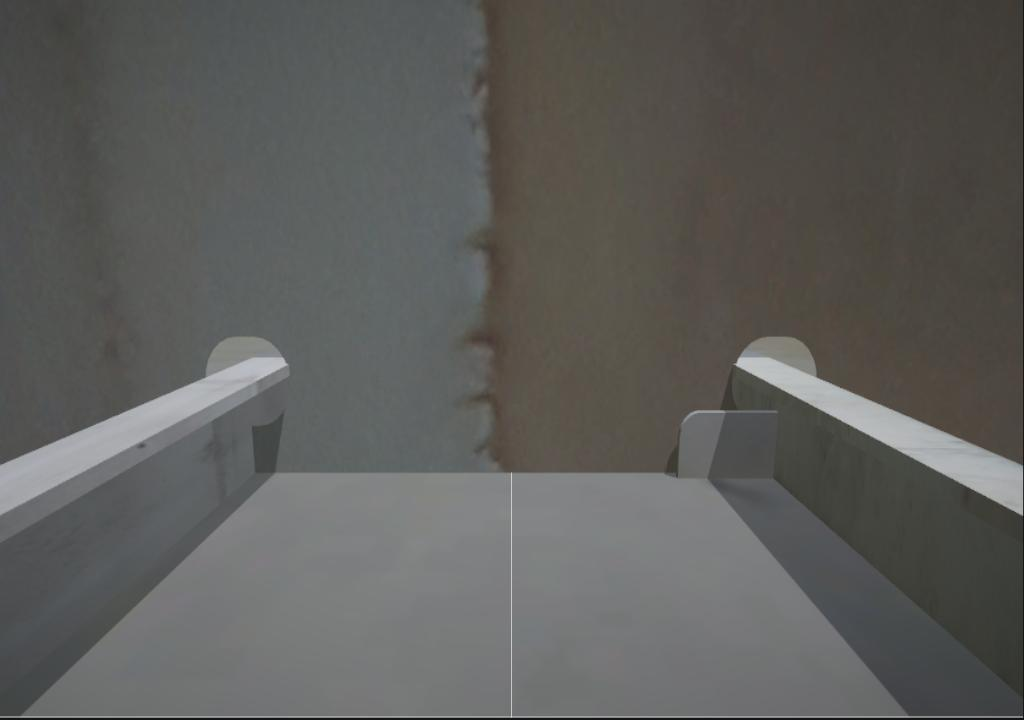fillet_yong_jeop_jang: (249, 461, 682, 480)
longi_yong_jeop_jang: (247, 420, 263, 480)
plate_CP05: (674, 410, 779, 480)
